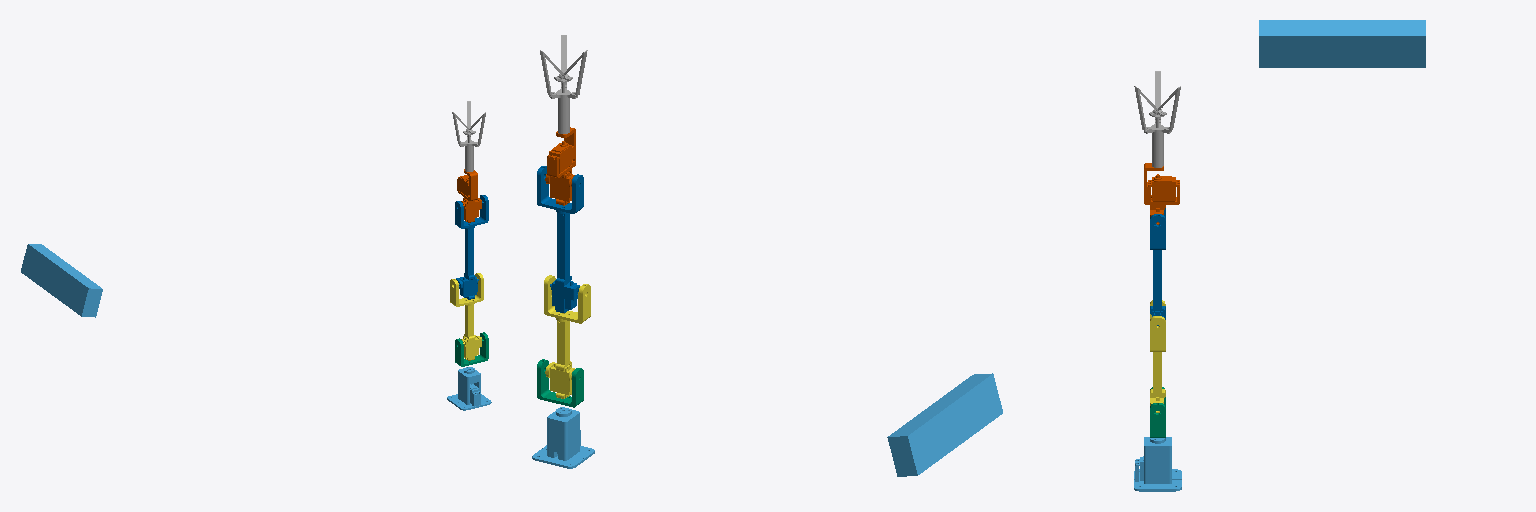
robot.urdf — dast_1:
<?xml version="1.0" ?>
<!-- =================================================================================== -->
<!-- |    This document was autogenerated by xacro from src/description/urdf/description.urdf.xacro | -->
<!-- |    EDITING THIS FILE BY HAND IS NOT RECOMMENDED                                 | -->
<!-- =================================================================================== -->
<robot name="dast_1">
  <!-- LINKS -->
  <link name="world"/>
  <link name="base_link">
    <inertial>
      <origin rpy="0 0 0" xyz="0 0 0"/>
      <mass value="0.2"/>
      <inertia ixx="1.0" ixy="0.0" ixz="0.0" iyy="1.0" iyz="0.0" izz="1.0"/>
    </inertial>
    <visual>
      <origin rpy="0 0 0" xyz="0 0 0"/>
      <geometry>
        <mesh filename="package://description/meshes/base.stl" scale="0.01 0.01 0.01"/>
      </geometry>
    </visual>
    <collision>
      <origin rpy="0 0 0" xyz="0 0 0"/>
      <geometry>
        <mesh filename="package://description/meshes/base_collision.stl" scale="0.01 0.01 0.01"/>
      </geometry>
    </collision>
  </link>
  <link name="rotary_link">
    <inertial>
      <origin rpy="0 0 0" xyz="0 0 0"/>
      <mass value="0.05"/>
      <inertia ixx="1.0" ixy="0.0" ixz="0.0" iyy="1.0" iyz="0.0" izz="1.0"/>
    </inertial>
    <visual>
      <origin rpy="0 0 1.570796326795" xyz="0 0 0"/>
      <geometry>
        <mesh filename="package://description/meshes/rotary.stl" scale="0.01 0.01 0.01"/>
      </geometry>
    </visual>
    <collision>
      <origin rpy="-1.570796326795 0 -1.570796326795" xyz="0 0 0"/>
      <geometry>
        <mesh filename="package://description/meshes/rotary_collision.stl" scale="0.01 0.01 0.01"/>
      </geometry>
    </collision>
  </link>
  <link name="arm_1_link">
    <inertial>
      <origin rpy="0 0 0" xyz="0 0 0"/>
      <mass value="0.1"/>
      <inertia ixx="1.0" ixy="0.0" ixz="0.0" iyy="1.0" iyz="0.0" izz="1.0"/>
    </inertial>
    <visual>
      <origin rpy="0 1.570796326795 3.14159265359" xyz="0 0 0"/>
      <geometry>
        <mesh filename="package://description/meshes/arm_1.stl" scale="0.01 0.01 0.01"/>
      </geometry>
    </visual>
    <collision>
      <origin rpy="0 1.570796326795 3.14159265359" xyz="0 0 0"/>
      <geometry>
        <mesh filename="package://description/meshes/arm_1_collision.stl" scale="0.01 0.01 0.01"/>
      </geometry>
    </collision>
  </link>
  <link name="arm_2_link">
    <inertial>
      <origin rpy="0 0 0" xyz="0 0 0"/>
      <mass value="0.1"/>
      <inertia ixx="1.0" ixy="0.0" ixz="0.0" iyy="1.0" iyz="0.0" izz="1.0"/>
    </inertial>
    <visual>
      <origin rpy="0 1.570796326795 0" xyz="0 0 0"/>
      <geometry>
        <mesh filename="package://description/meshes/arm_2.stl" scale="0.01 0.01 0.01"/>
      </geometry>
    </visual>
    <collision>
      <origin rpy="0 1.570796326795 0" xyz="0 0 0"/>
      <geometry>
        <mesh filename="package://description/meshes/arm_2_collision.stl" scale="0.01 0.01 0.01"/>
      </geometry>
    </collision>
  </link>
  <link name="arm_3_link">
    <inertial>
      <origin rpy="0 0 0" xyz="0 0 0"/>
      <mass value="0.1"/>
      <inertia ixx="1.0" ixy="0.0" ixz="0.0" iyy="1.0" iyz="0.0" izz="1.0"/>
    </inertial>
    <visual>
      <origin rpy="0 1.570796326795 3.14159265359" xyz="0 0 0"/>
      <geometry>
        <mesh filename="package://description/meshes/arm_3.stl" scale="0.01 0.01 0.01"/>
      </geometry>
    </visual>
    <collision>
      <origin rpy="0 1.570796326795 3.14159265359" xyz="0 0 0"/>
      <geometry>
        <mesh filename="package://description/meshes/arm_3_collision.stl" scale="0.01 0.01 0.01"/>
      </geometry>
    </collision>
  </link>
  <!-- TEMPORARY, SIMULATION ONLY. Placeholder for the sixth DOF: carries no mesh
         of its own, so at joint_6 = 0 the robot looks exactly as it did when the
         arm had 5 joints. The real joint, with its own geometry and a servo behind
         it, will replace this. See "The sixth joint" in CLAUDE.md. -->
  <link name="wrist_link">
    <inertial>
      <origin rpy="0 0 0" xyz="0 0 0"/>
      <mass value="0.01"/>
      <inertia ixx="1.0" ixy="0.0" ixz="0.0" iyy="1.0" iyz="0.0" izz="1.0"/>
    </inertial>
  </link>
  <link name="gripper_link">
    <inertial>
      <origin rpy="0 0 0" xyz="0 0 0"/>
      <mass value="0.05"/>
      <inertia ixx="1.0" ixy="0.0" ixz="0.0" iyy="1.0" iyz="0.0" izz="1.0"/>
    </inertial>
    <visual>
      <origin rpy="-1.570796326795 0 3.14159265359" xyz="0 0 0"/>
      <geometry>
        <mesh filename="package://description/meshes/gripper_3.stl" scale="0.01 0.01 0.01"/>
      </geometry>
    </visual>
    <collision>
      <origin rpy="-1.570796326795 0 3.14159265359" xyz="0 0 0"/>
      <geometry>
        <mesh filename="package://description/meshes/gripper_3_collision.stl" scale="0.01 0.01 0.01"/>
      </geometry>
    </collision>
  </link>
  <link name="tip"/>
  <!-- JOINTS -->
  <joint name="virtual_joint" type="fixed">
    <parent link="world"/>
    <child link="base_link"/>
    <origin rpy="0 0 0" xyz="0 0 0"/>
  </joint>
  <joint name="joint_1" type="revolute">
    <parent link="base_link"/>
    <child link="rotary_link"/>
    <origin xyz="0 0 1.47"/>
    <axis xyz="0 0 1"/>
    <limit effort="20.0" lower="-1.570796326795" upper="1.570796326795" velocity="10.0"/>
  </joint>
  <joint name="joint_2" type="revolute">
    <parent link="rotary_link"/>
    <child link="arm_1_link"/>
    <origin xyz="0 0 0"/>
    <axis xyz="1 0 0"/>
    <limit effort="20.0" lower="-1.570796326795" upper="1.570796326795" velocity="10.0"/>
  </joint>
  <joint name="joint_3" type="revolute">
    <parent link="arm_1_link"/>
    <child link="arm_2_link"/>
    <origin xyz="0 0 1.545"/>
    <axis xyz="1 0 0"/>
    <limit effort="20.0" lower="-1.570796326795" upper="1.570796326795" velocity="10.0"/>
  </joint>
  <joint name="joint_4" type="revolute">
    <parent link="arm_2_link"/>
    <child link="arm_3_link"/>
    <origin xyz="0 0 1.945"/>
    <axis xyz="1 0 0"/>
    <limit effort="20.0" lower="-1.570796326795" upper="1.570796326795" velocity="10.0"/>
  </joint>
  <joint name="joint_5" type="revolute">
    <parent link="arm_3_link"/>
    <child link="wrist_link"/>
    <origin xyz="0 0 0.88"/>
    <axis xyz="0 0 1"/>
    <limit effort="20.0" lower="-1.570796326795" upper="1.570796326795" velocity="10.0"/>
  </joint>
  <joint name="joint_6" type="revolute">
    <parent link="wrist_link"/>
    <child link="gripper_link"/>
    <origin xyz="0 0 0"/>
    <axis xyz="0 1 0"/>
    <limit effort="20.0" lower="-1.570796326795" upper="1.570796326795" velocity="10.0"/>
  </joint>
  <joint name="virtual_joint_tip" type="fixed">
    <parent link="gripper_link"/>
    <child link="tip"/>
    <origin rpy="0 0 0" xyz="0 0 1.75"/>
  </joint>
  <!-- KINECT -->
  <!-- Present in both modes: the real driver and the simulated sensor publish
         the same topics in the same frames, so nothing downstream can tell them
         apart. Only the sensor block below is simulation-only. -->
  <link name="kinect_link">
    <inertial>
      <origin rpy="0 0 0" xyz="0 0 0"/>
      <mass value="0.5"/>
      <inertia ixx="1.0" ixy="0.0" ixz="0.0" iyy="1.0" iyz="0.0" izz="1.0"/>
    </inertial>
    <visual>
      <origin rpy="0 0 0" xyz="0 0 0"/>
      <geometry>
        <box size="0.4 2.8 0.7"/>
      </geometry>
    </visual>
    <collision>
      <origin rpy="0 0 0" xyz="0 0 0"/>
      <geometry>
        <box size="0.4 2.8 0.7"/>
      </geometry>
    </collision>
  </link>
  <!-- Images and clouds are published in the optical convention: z forward out
         of the lens, x right, y down. kinect_link itself is the ordinary robot
         convention, x forward. -->
  <link name="kinect_rgb_optical_frame"/>
  <joint name="kinect_joint" type="fixed">
    <parent link="base_link"/>
    <child link="kinect_link"/>
    <origin rpy="0 0.279 0" xyz="-9.0 3.1 3.9"/>
  </joint>
  <joint name="kinect_optical_joint" type="fixed">
    <parent link="kinect_link"/>
    <child link="kinect_rgb_optical_frame"/>
    <origin rpy="-1.570796326795 0 -1.570796326795" xyz="0 0 0"/>
  </joint>
  <gazebo reference="kinect_link">
    <sensor name="kinect" type="rgbd_camera">
      <camera>
        <horizontal_fov>1.0542</horizontal_fov>
        <image>
          <width>640</width>
          <height>480</height>
          <format>R8G8B8</format>
        </image>
        <clip>
          <near>5.0</near>
          <far>40.0</far>
        </clip>
      </camera>
      <always_on>1</always_on>
      <update_rate>30</update_rate>
      <visualize>true</visualize>
      <topic>kinect</topic>
      <!-- kinect_link, not the optical frame. Gazebo renders along the
                     sensor link's +x and emits the cloud in that same frame, and
                     gz_frame_id only labels the message, it does not rotate the
                     data. Naming the optical frame here produced a cloud whose
                     depth axis was x while every consumer read it as z, which put
                     the ground plane 16 units underground. The real driver does
                     publish the optical convention; both are correct in their own
                     frame and TF reconciles them. -->
      <gz_frame_id>kinect_link</gz_frame_id>
    </sensor>
  </gazebo>
  <!-- Gazebo (for Humble)-->
  <gazebo>
    <plugin filename="gz_ros2_control-system" name="gz_ros2_control::GazeboSimROS2ControlPlugin">
      <parameters>package://controller/config/controller.yaml</parameters>
    </plugin>
  </gazebo>
  <ros2_control name="RobotSystem" type="system">
    <hardware>
      <plugin>gz_ros2_control/GazeboSimSystem</plugin>
    </hardware>
    <!-- Joints -->
    <joint name="joint_1">
      <command_interface name="position">
        <param name="min">-1.570796326795</param>
        <param name="max">1.570796326795</param>
      </command_interface>
      <state_interface name="position"/>
    </joint>
    <joint name="joint_2">
      <command_interface name="position">
        <param name="min">-1.570796326795</param>
        <param name="max">1.570796326795</param>
      </command_interface>
      <state_interface name="position"/>
    </joint>
    <joint name="joint_3">
      <command_interface name="position">
        <param name="min">-1.570796326795</param>
        <param name="max">1.570796326795</param>
      </command_interface>
      <state_interface name="position"/>
    </joint>
    <joint name="joint_4">
      <command_interface name="position">
        <param name="min">-1.570796326795</param>
        <param name="max">1.570796326795</param>
      </command_interface>
      <state_interface name="position"/>
    </joint>
    <joint name="joint_5">
      <command_interface name="position">
        <param name="min">-1.570796326795</param>
        <param name="max">1.570796326795</param>
      </command_interface>
      <state_interface name="position"/>
    </joint>
    <joint name="joint_6">
      <command_interface name="position">
        <param name="min">-1.570796326795</param>
        <param name="max">1.570796326795</param>
      </command_interface>
      <state_interface name="position"/>
    </joint>
  </ros2_control>
</robot>

--- Facts derived from the render (not from the file) ---
Views: 3 orthographic renders of the robot side by side, from view 1: azimuth 30°, elevation 25°; view 2: azimuth 150°, elevation 25°; view 3: azimuth 270°, elevation 25°.
Robot: dast_1 — 11 links, 10 joints (6 revolute, 4 fixed); root link world; default pose: every joint at zero.
Visible links, largest first — view 1: kinect_link, arm_2_link, arm_1_link, base_link, arm_3_link, gripper_link, rotary_link; view 2: kinect_link, arm_2_link, arm_1_link, base_link, arm_3_link, gripper_link, rotary_link; view 3: kinect_link, base_link, gripper_link, arm_3_link, arm_2_link, arm_1_link, rotary_link.
Link boxes in pixels (x1=…): kinect_link: x1=21, y1=244, x2=102, y2=317; arm_2_link: x1=455, y1=195, x2=488, y2=299; arm_1_link: x1=450, y1=273, x2=483, y2=360; base_link: x1=447, y1=367, x2=491, y2=410; arm_3_link: x1=457, y1=169, x2=481, y2=222; gripper_link: x1=452, y1=101, x2=485, y2=171; rotary_link: x1=455, y1=332, x2=488, y2=366; kinect_link: x1=887, y1=373, x2=1002, y2=476; arm_2_link: x1=537, y1=166, x2=583, y2=312; arm_1_link: x1=544, y1=275, x2=590, y2=398; base_link: x1=532, y1=407, x2=594, y2=468; arm_3_link: x1=545, y1=127, x2=575, y2=205; gripper_link: x1=540, y1=35, x2=587, y2=133; rotary_link: x1=537, y1=359, x2=583, y2=407; kinect_link: x1=1259, y1=20, x2=1425, y2=67; base_link: x1=1134, y1=437, x2=1181, y2=491; gripper_link: x1=1134, y1=71, x2=1180, y2=167; arm_3_link: x1=1144, y1=163, x2=1179, y2=224; arm_2_link: x1=1150, y1=208, x2=1165, y2=325; arm_1_link: x1=1150, y1=300, x2=1165, y2=412; rotary_link: x1=1150, y1=387, x2=1165, y2=437.
Size in the robot's own frame: 9.72 by 4.9 by 7.4 metres.
Meshes: 6 distinct files referenced, 6 mesh visuals loaded (6 binary STL).
